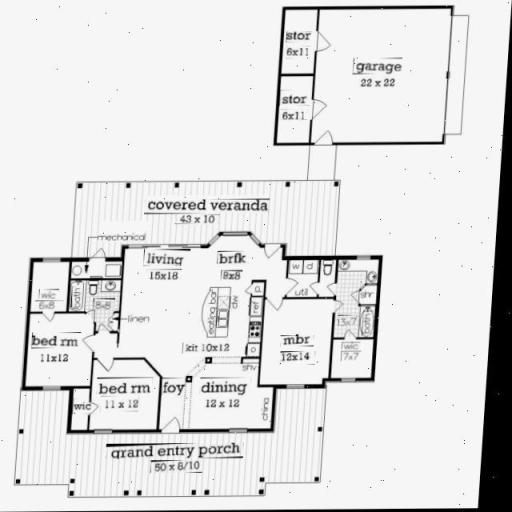Room: (192, 376, 263, 432)
bathroom: (296, 261, 376, 374)
bedroom: (73, 370, 153, 425), (31, 315, 89, 386)
garage: (309, 10, 456, 144)
hall: (125, 248, 202, 361)
kitchen: (205, 278, 263, 368)
porch: (21, 432, 319, 486)
